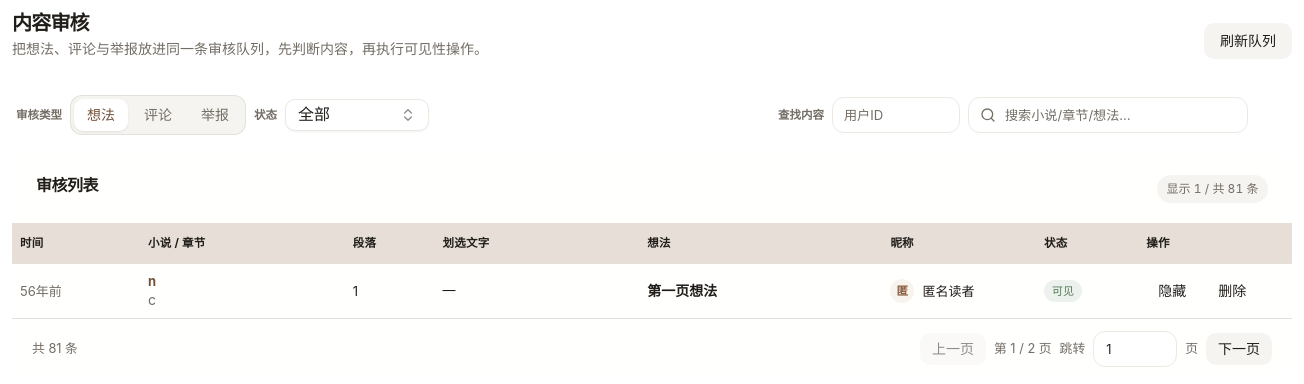
Scenario: 第 81 条审核内容可通过下一页读取，并传入 offset
The width and height of the screenshot is (1304, 384).
Expected: the text "第一页想法" is shown, [647, 282, 717, 299]
Click the button "下一页".
click(1239, 349)  # box [1206, 333, 1272, 365]
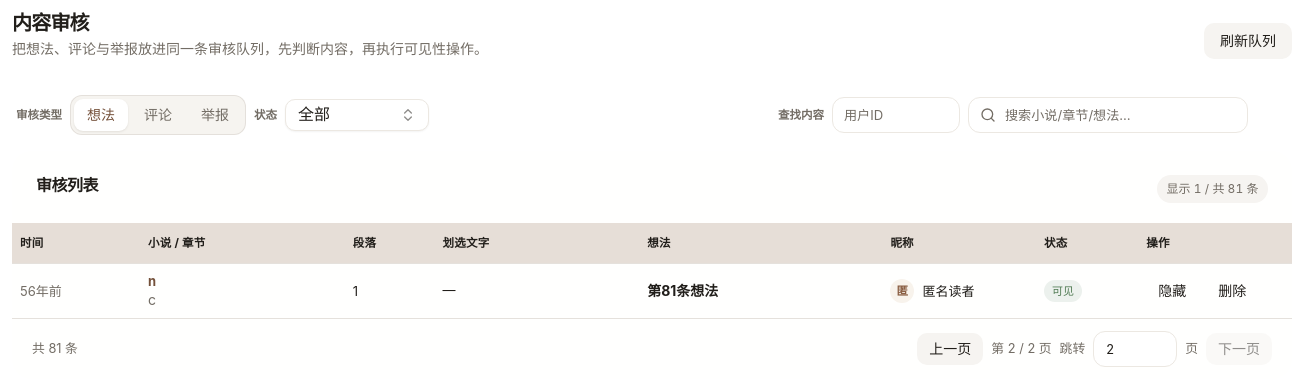
Now the text "第81条想法" is shown, box [647, 282, 718, 299]
